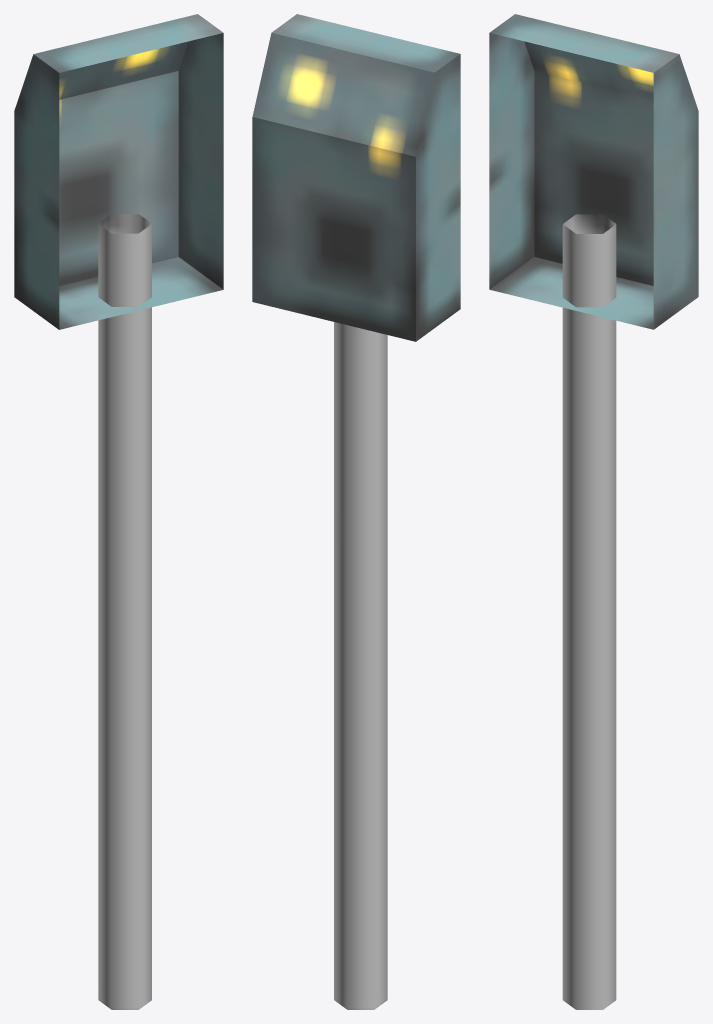
File: Pfb_Soda_Prison__2.fbx
3 views of the same model, side by side, from view 1: azimuth 30°, elevation 25°; view 2: azimuth 150°, elevation 25°; view 3: azimuth 330°, elevation 25° (orthographic).
Visible parts, largest first — view 1: jail_part_2; view 2: jail_part_2; view 3: jail_part_2.
Part boxes in pixels (bbox=[...]): jail_part_2: bbox=[14, 14, 223, 1009]; jail_part_2: bbox=[252, 14, 460, 1009]; jail_part_2: bbox=[489, 14, 698, 1009].
Bounding box in the file's own units: 0.3533 × 1.97 × 0.1668.
Materials: 1 (1 with a texture image).
